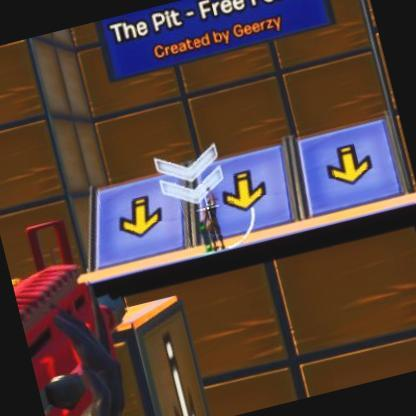person: (199, 190, 235, 250)
